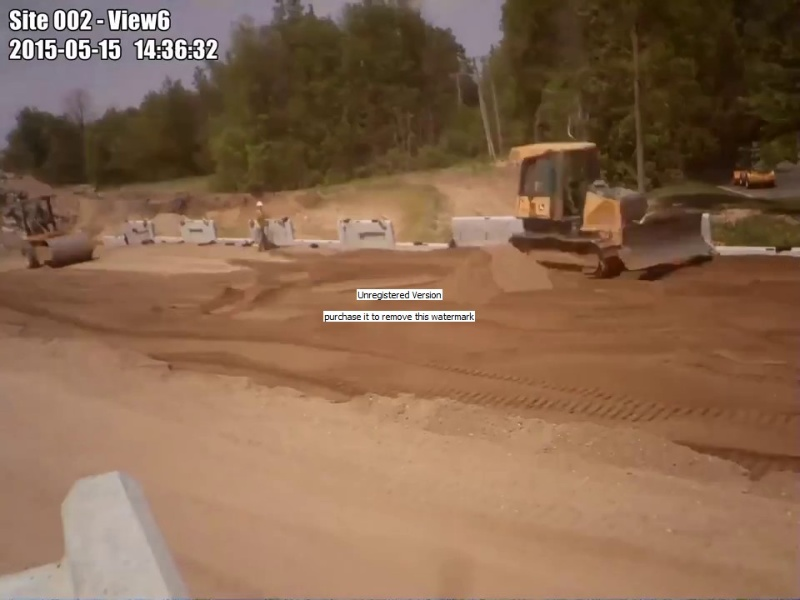bulldozer: (509, 141, 712, 281)
hardhat: (256, 201, 264, 208)
person: (255, 201, 267, 250)
roller: (9, 192, 94, 269), (730, 147, 777, 189)
wall: (101, 216, 527, 250)
